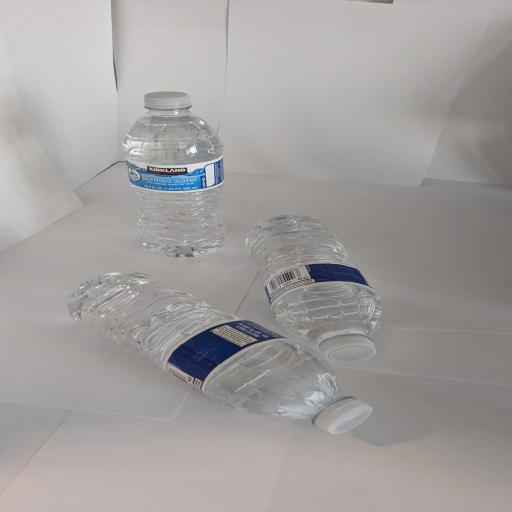waterbottle: (69, 273, 372, 433), (247, 216, 382, 362), (124, 92, 225, 256)
